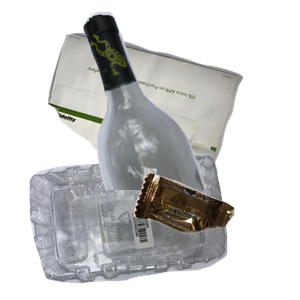glass: (81, 10, 300, 190)
paper: (45, 30, 281, 195)
plastic: (27, 152, 247, 300)
trash: (131, 171, 300, 300)
